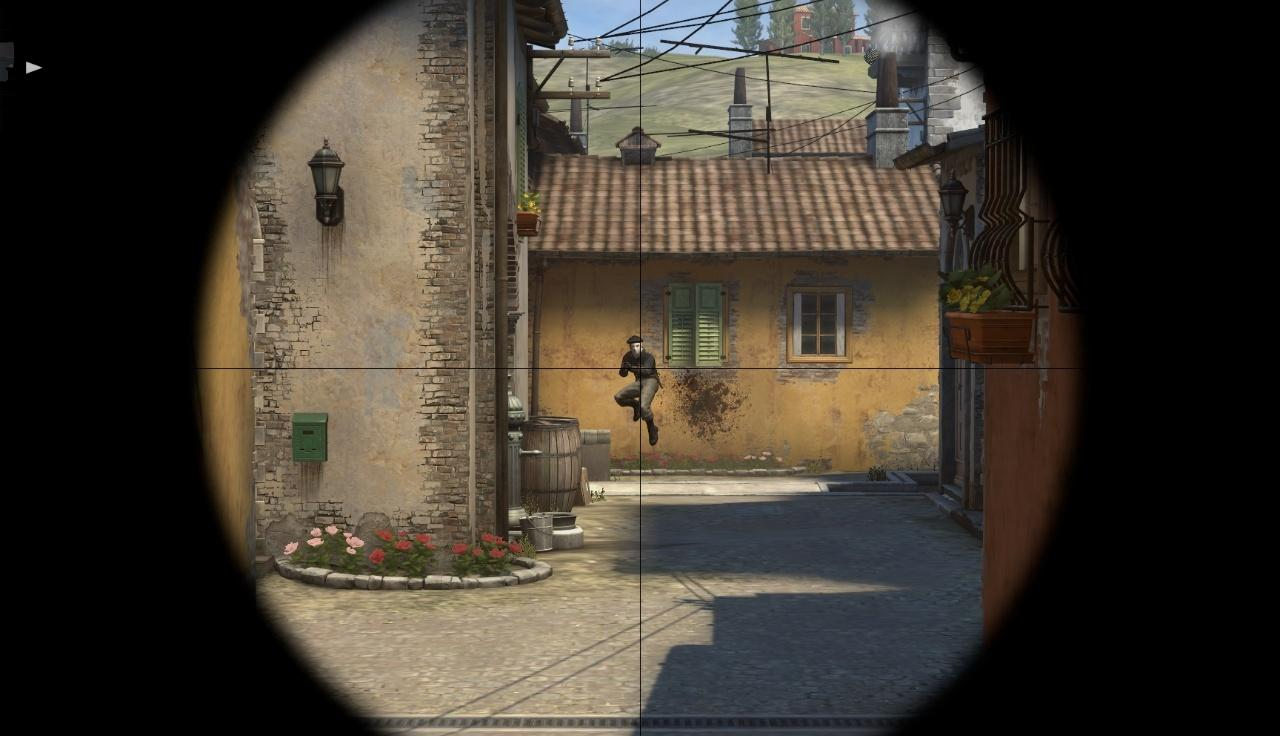tt: (620, 335, 658, 434)
tthead: (630, 336, 642, 356)
